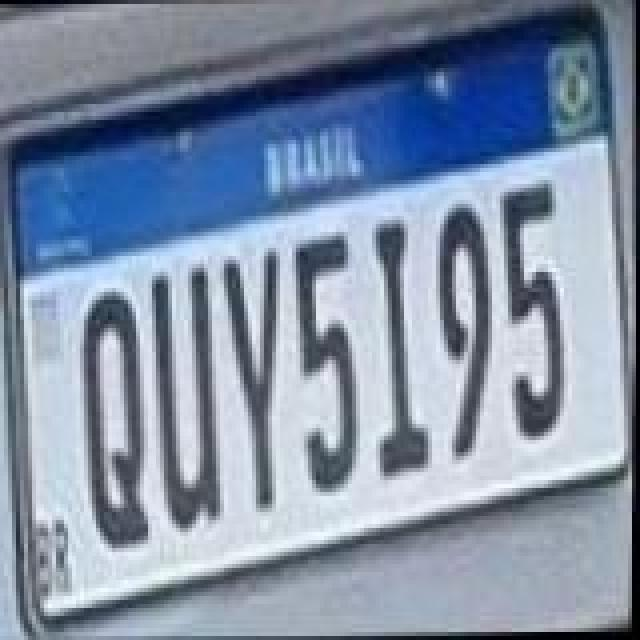5: (292, 234, 364, 498), (496, 176, 568, 440)
9: (436, 206, 500, 458)
I: (372, 222, 436, 482)
Q: (78, 288, 158, 552)
U: (150, 264, 230, 536)
Y: (222, 248, 286, 512)
